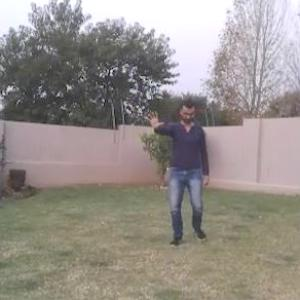follow_hand: (142, 104, 165, 129)
